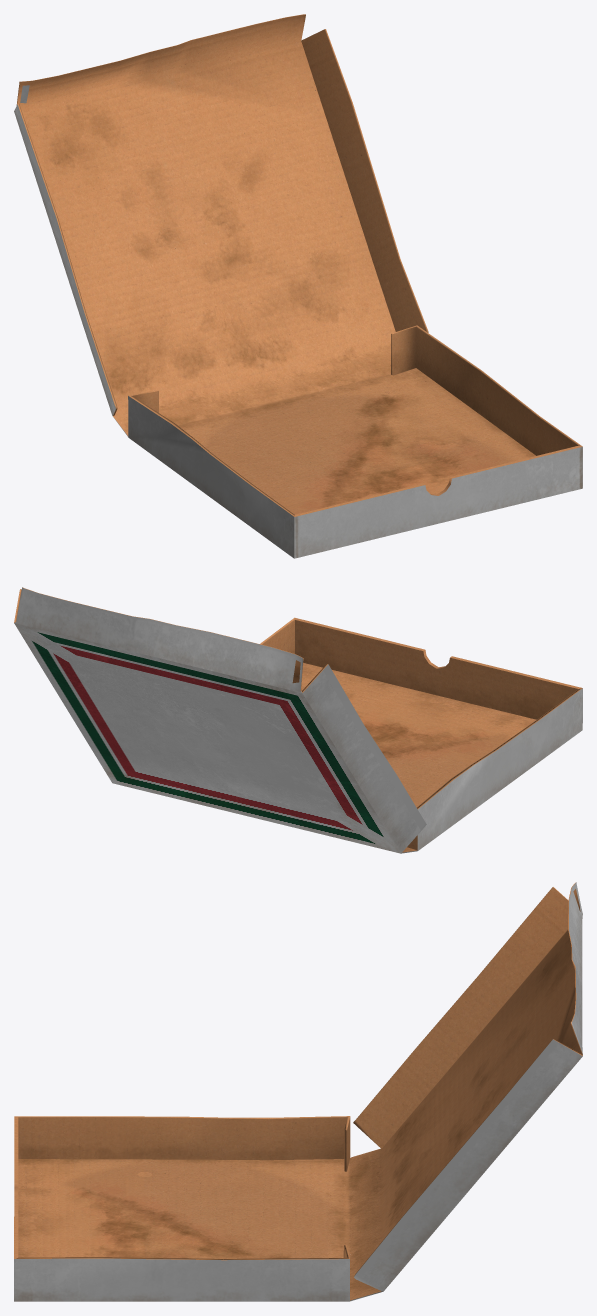
Rendered from Pizza_box.fbx.
3 views of the same model, one above another, from view 1: azimuth 30°, elevation 25°; view 2: azimuth 150°, elevation 25°; view 3: azimuth 270°, elevation 25° (orthographic).
Visible parts, largest first — view 1: Object_150.002; view 2: Object_150.002; view 3: Object_150.002.
Part boxes in pixels (x1,y1,x2,y2): Object_150.002: [14, 14, 582, 558]; Object_150.002: [14, 587, 582, 853]; Object_150.002: [14, 882, 582, 1301].
Bounding box in the file's own units: 64.65 × 53.96 × 100.
1 material, 1 textured.
